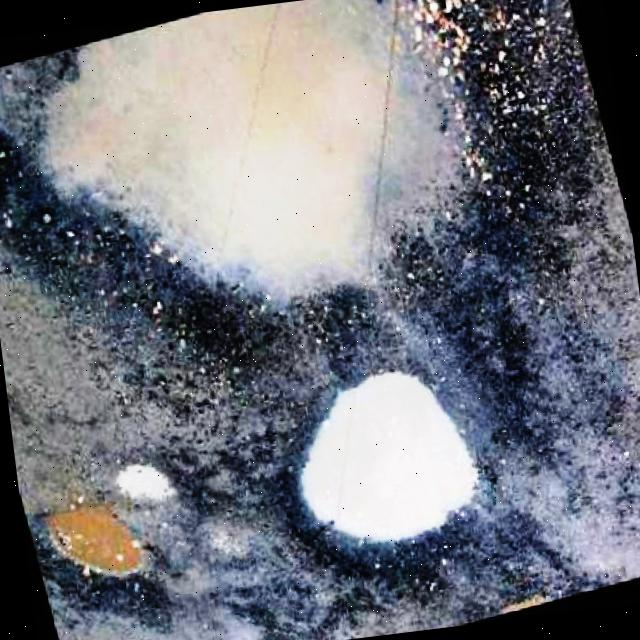pothole: (0, 0, 570, 375), (268, 343, 550, 606), (18, 432, 215, 630)
